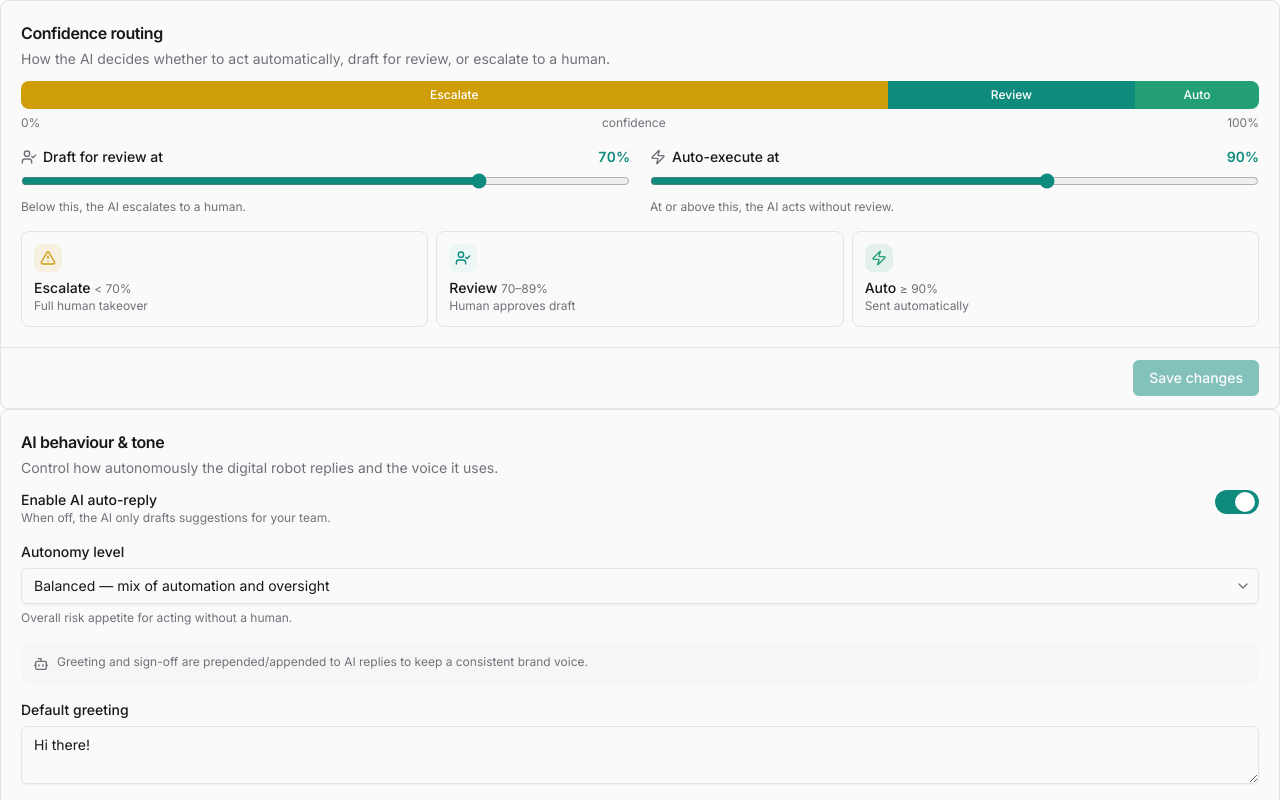
Scenario: AI behaviour and tone › goes back to clean when an edit is reverted
This screenshot has width=1280, height=800.
Click the switch: click(1237, 502) left=1215, top=490, right=1259, bottom=514
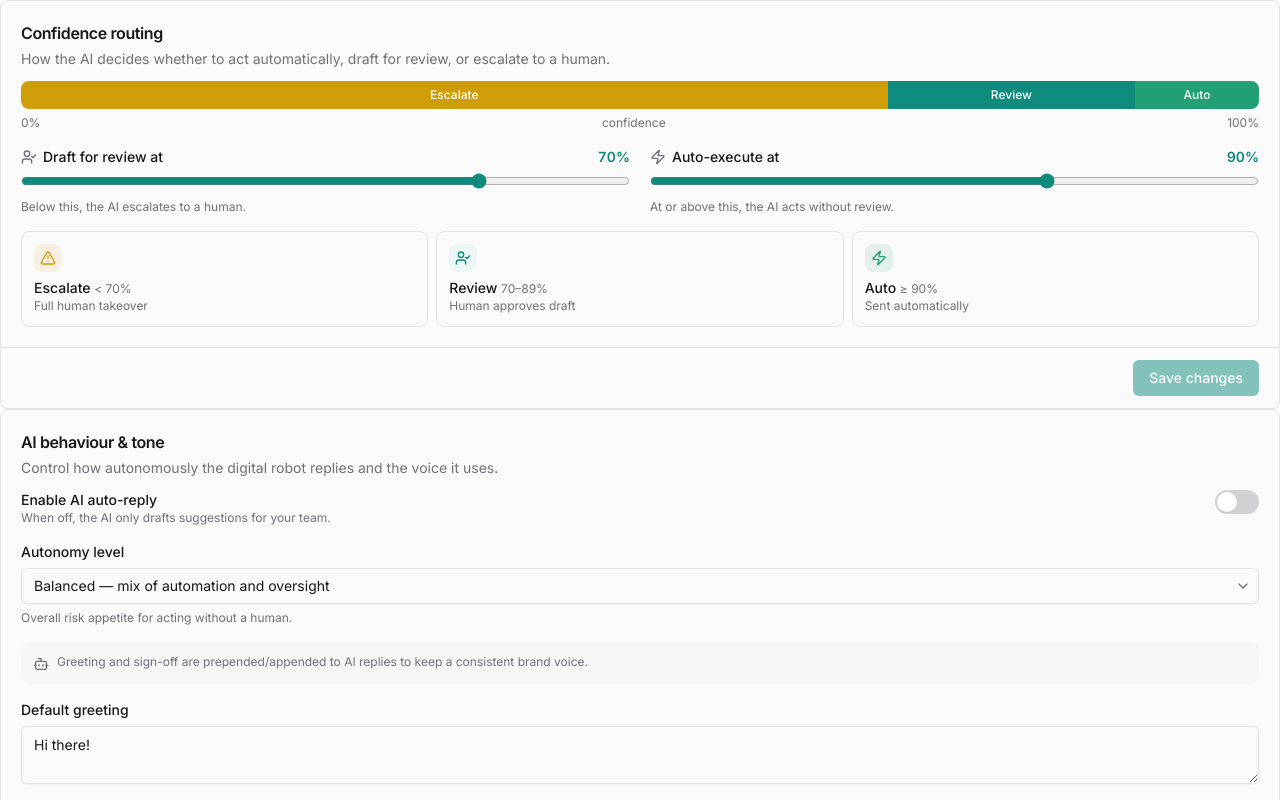
Click the switch: click(1237, 502) left=1215, top=490, right=1259, bottom=514
(page scrolled)
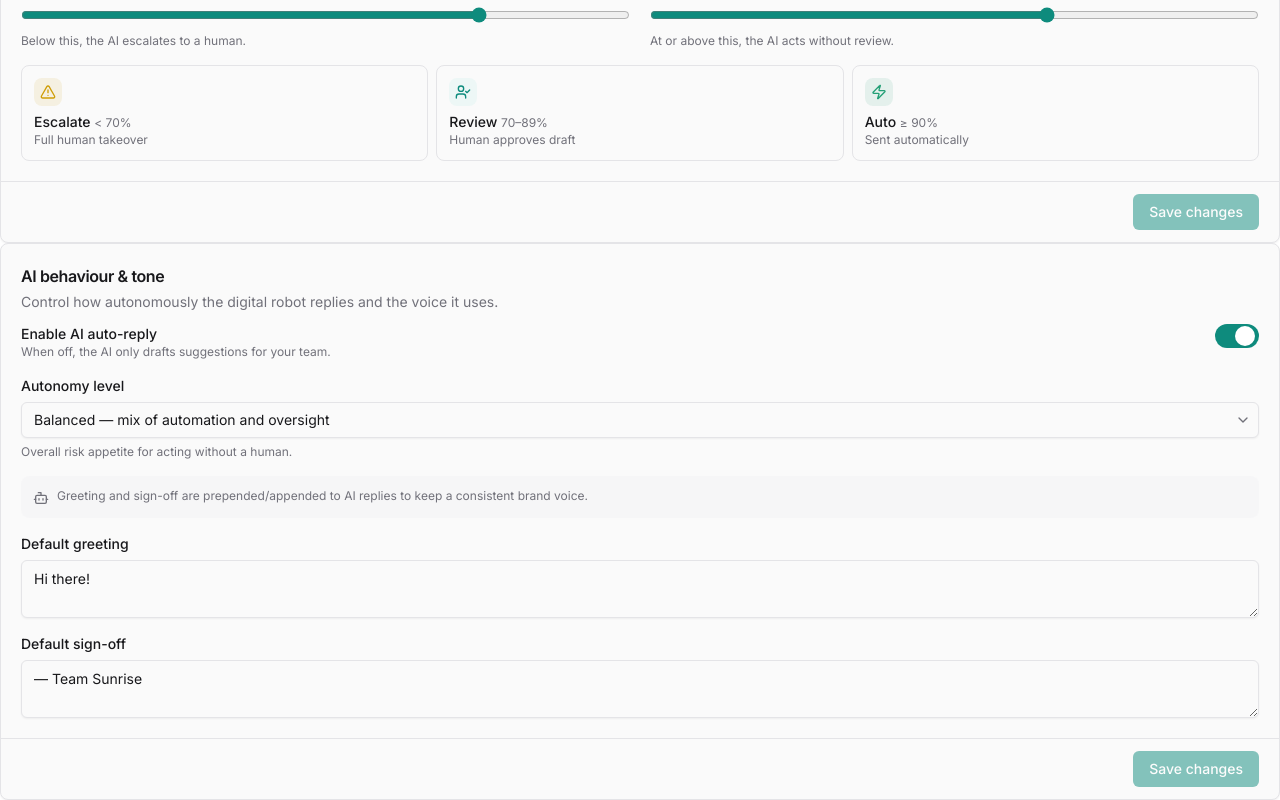
Expected: the 2nd button "Save changes" is disabled, left=1133, top=751, right=1259, bottom=787
